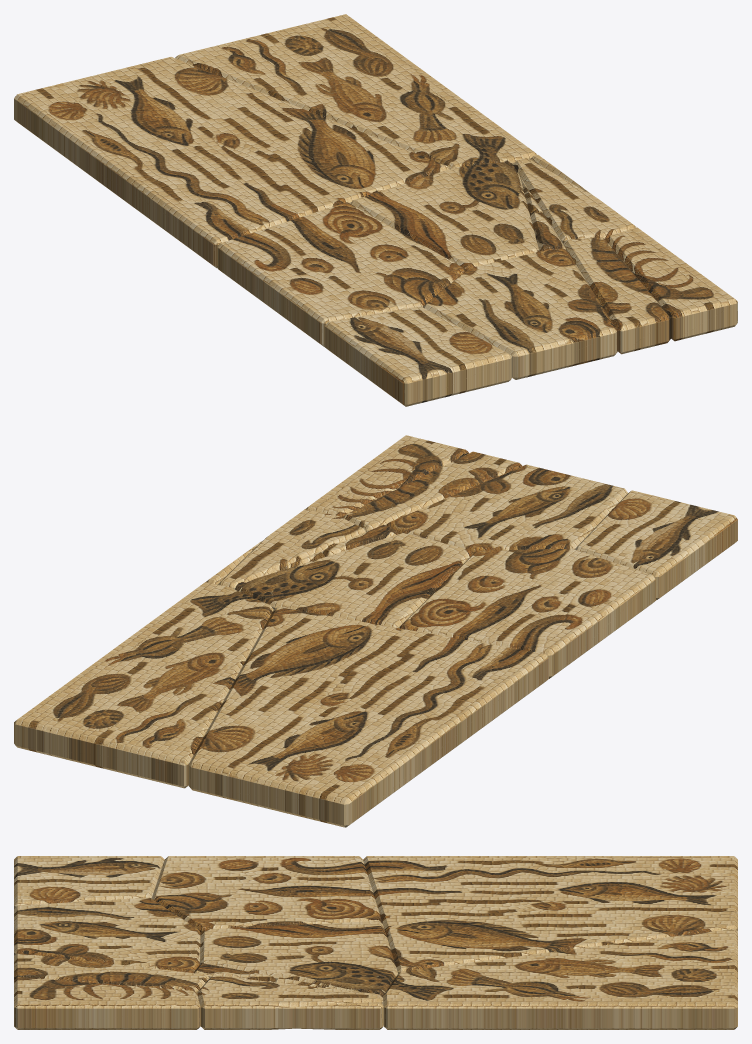
File: puzzlefish.glb
The picture shows the model from 3 angles, top to bottom: view 1: azimuth 30°, elevation 25°; view 2: azimuth 150°, elevation 25°; view 3: azimuth 270°, elevation 25°; orthographic projection. The views are drawn at different scales.
Visible parts, largest first — view 1: Plane_cell.003, Plane_cell.001, Plane_cell.002_cell.004, Plane_cell.002_cell.002, Plane_cell.002_cell.003, Plane_cell.002_cell, Plane_cell_cell, Plane_cell_cell.001, Plane_cell_cell.002, Plane_cell.002_cell.001_cell.001; view 2: Plane_cell.003, Plane_cell.001, Plane_cell.002_cell.004, Plane_cell.002_cell.002, Plane_cell.002_cell.003, Plane_cell.002_cell, Plane_cell_cell, Plane_cell_cell.002, Plane_cell_cell.001, Plane_cell.002_cell.001_cell.001; view 3: Plane_cell.003, Plane_cell.001, Plane_cell.002_cell.004, Plane_cell.002_cell.002, Plane_cell.002_cell.003, Plane_cell_cell, Plane_cell_cell.002, Plane_cell.002_cell, Plane_cell_cell.001, Plane_cell.002_cell.001_cell.001.
Boxes of the visible parts, x1,y1,x2,y2 form: Plane_cell.003: (14, 57, 449, 267); Plane_cell.001: (175, 14, 537, 168); Plane_cell.002_cell.004: (217, 202, 464, 346); Plane_cell.002_cell.002: (423, 249, 617, 379); Plane_cell.002_cell.003: (351, 161, 539, 271); Plane_cell.002_cell: (324, 306, 511, 406); Plane_cell_cell: (606, 227, 737, 341); Plane_cell_cell.001: (563, 237, 670, 354); Plane_cell_cell.002: (513, 155, 636, 243); Plane_cell.002_cell.001_cell.001: (530, 212, 565, 251); Plane_cell.003: (188, 607, 548, 827); Plane_cell.001: (14, 582, 273, 788); Plane_cell.002_cell.004: (398, 548, 655, 678); Plane_cell.002_cell.002: (386, 464, 627, 553); Plane_cell.002_cell.003: (235, 533, 473, 627); Plane_cell.002_cell: (575, 490, 737, 600); Plane_cell_cell: (305, 435, 468, 518); Plane_cell_cell.002: (206, 509, 366, 589); Plane_cell_cell.001: (343, 451, 522, 531); Plane_cell.002_cell.001_cell.001: (323, 524, 399, 556); Plane_cell.003: (363, 856, 737, 973); Plane_cell.001: (383, 928, 737, 1029); Plane_cell.002_cell.004: (152, 856, 381, 944); Plane_cell.002_cell.002: (14, 897, 200, 972); Plane_cell.002_cell.003: (200, 921, 397, 997); Plane_cell_cell: (14, 977, 200, 1029); Plane_cell_cell.002: (197, 975, 383, 1029); Plane_cell.002_cell: (14, 856, 164, 908); Plane_cell_cell.001: (14, 953, 209, 994); Plane_cell.002_cell.001_cell.001: (194, 963, 275, 982).
Size of the model in its own units: 2 by 0.16 by 4.06.
Materials: 1 (1 with a texture image).
